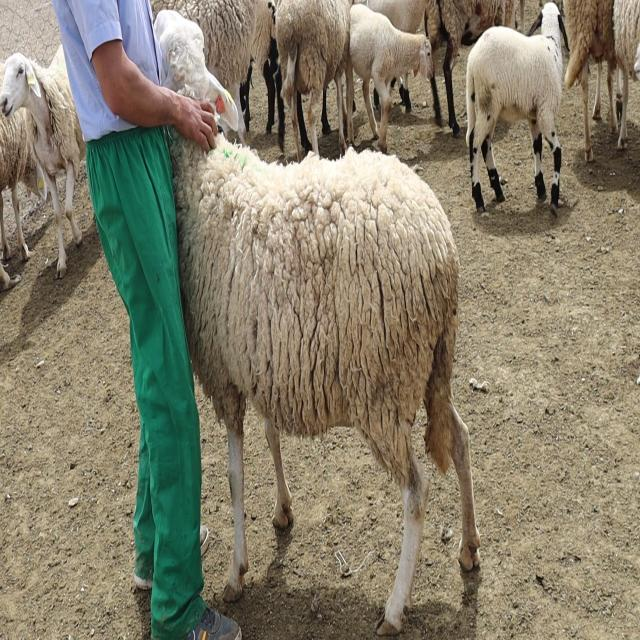Score_3: (171, 131, 480, 635)
